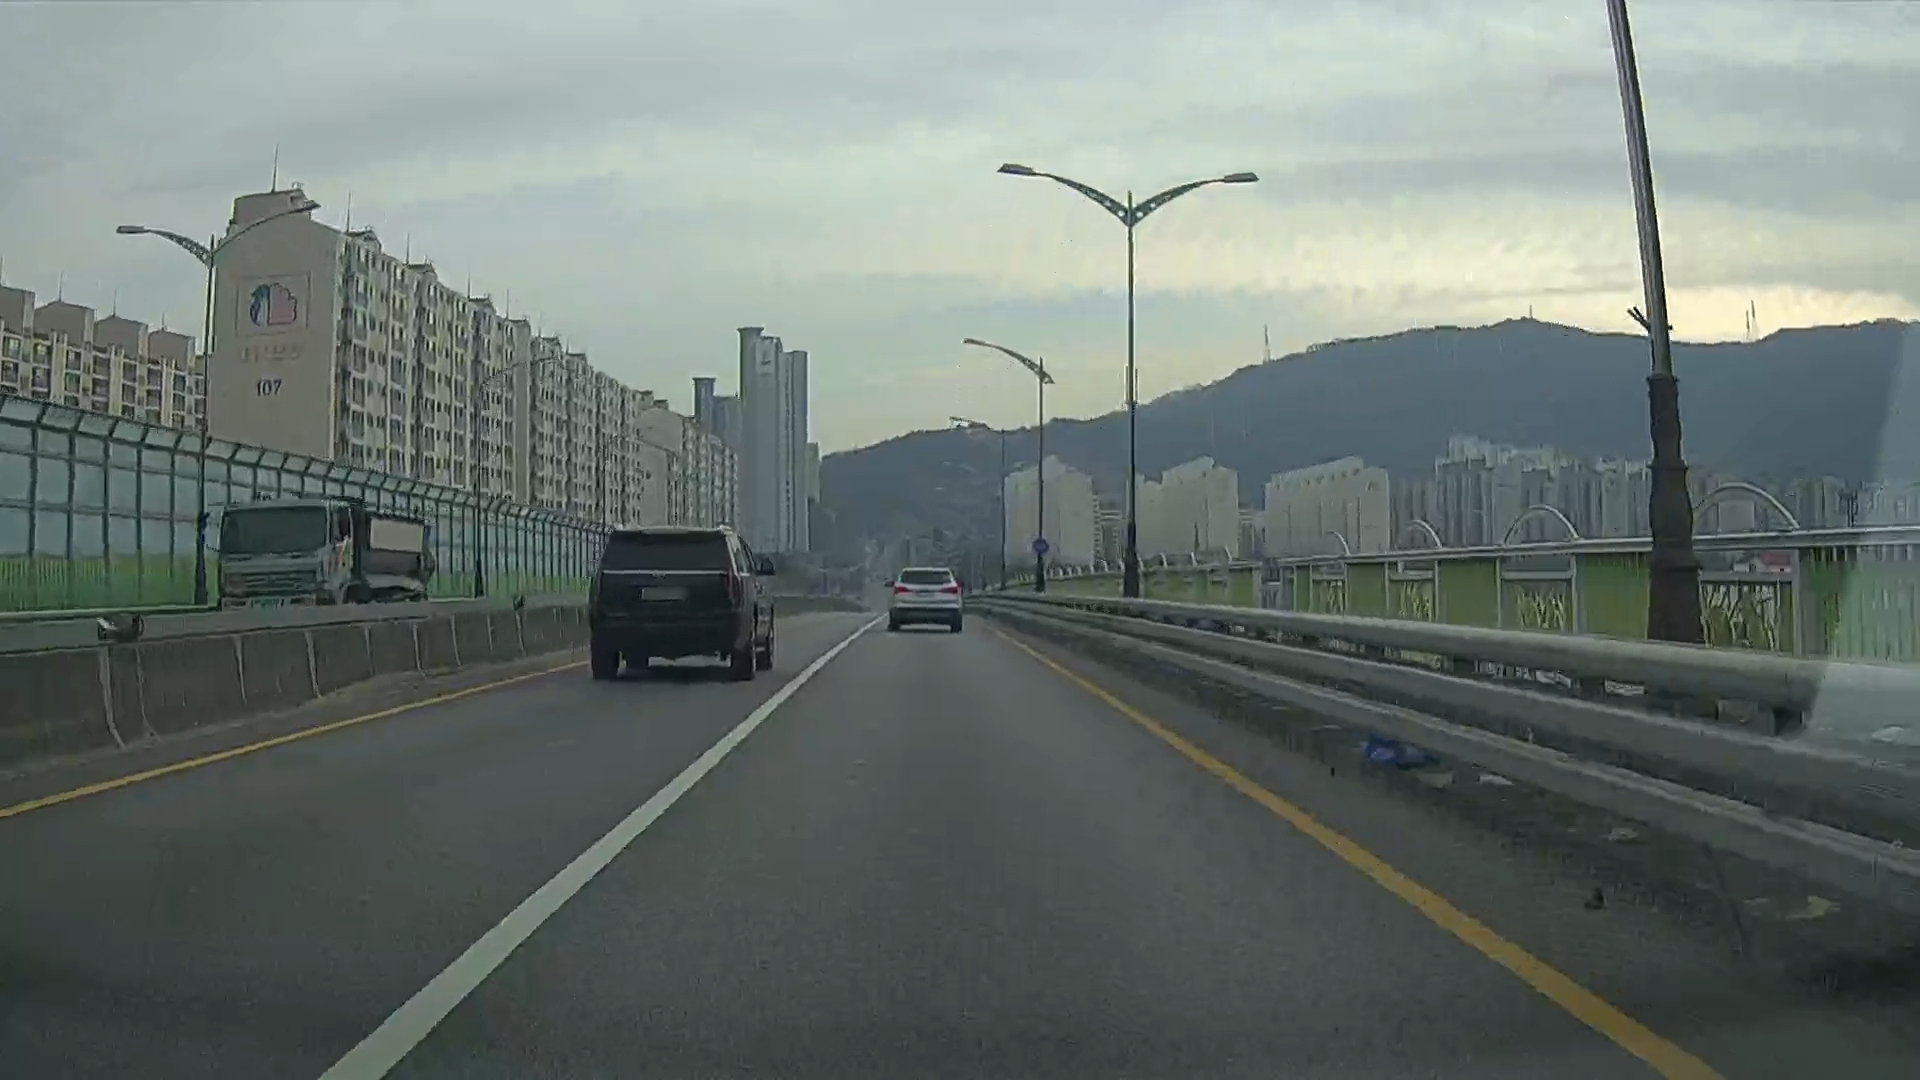trafficSignCircle: (1034, 541, 1047, 556)
